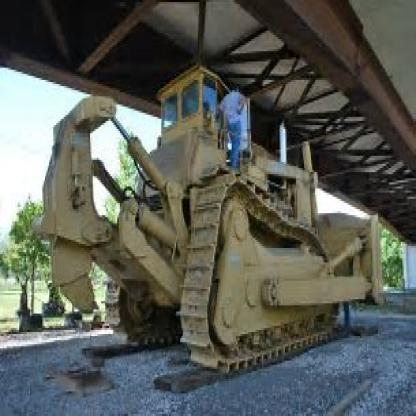bull_dozer/loader/grader: (37, 47, 394, 381)
